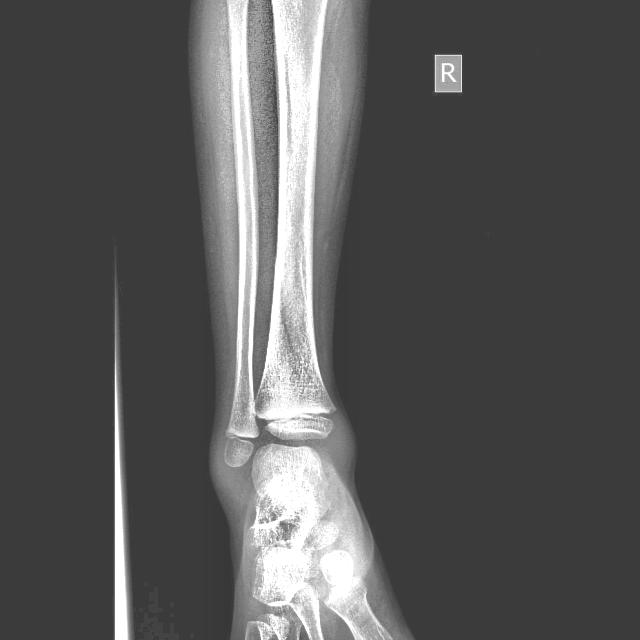line: (272, 254, 318, 388), (296, 244, 316, 346)
